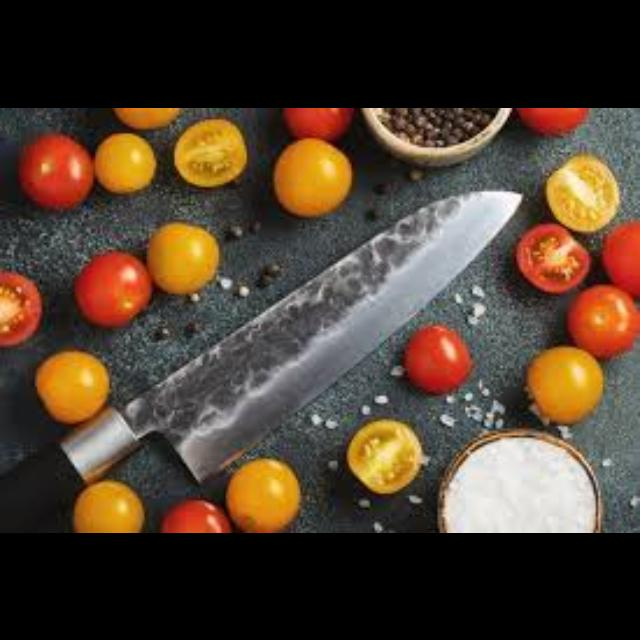knife: (1, 186, 522, 530)
